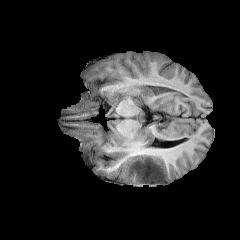glioma: (128, 154, 171, 184)
